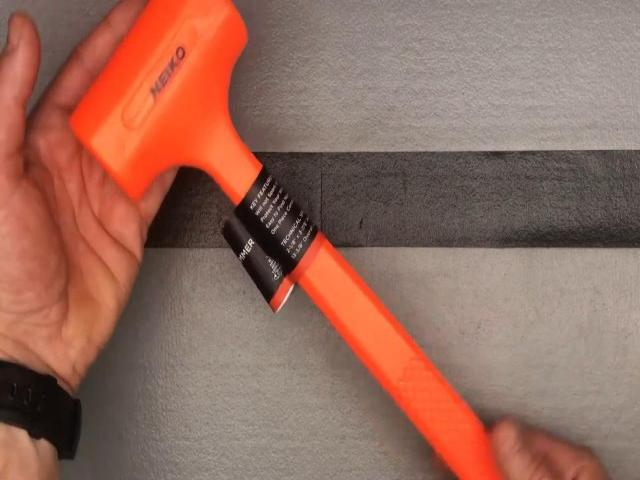hammer: (69, 0, 545, 480)
